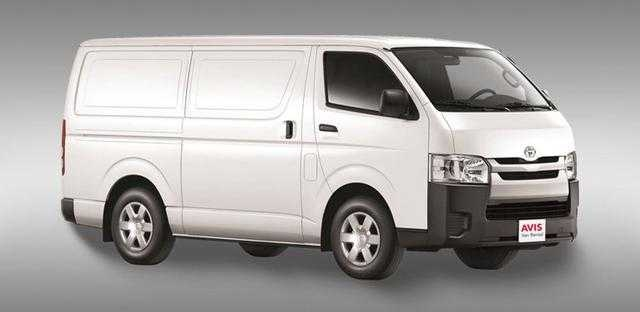van: (59, 34, 579, 280)
